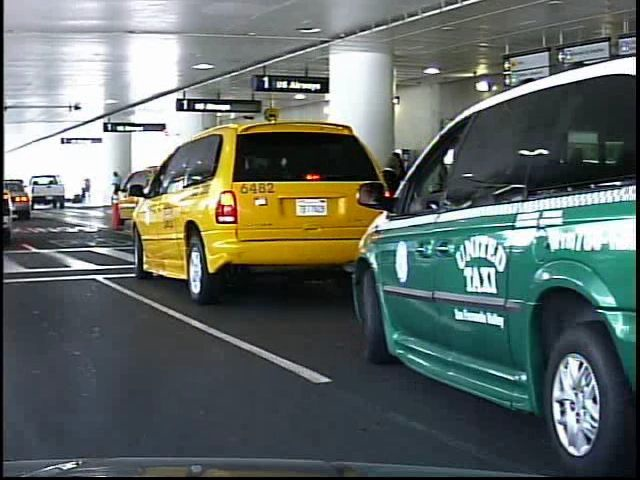person: (103, 170, 120, 209)
